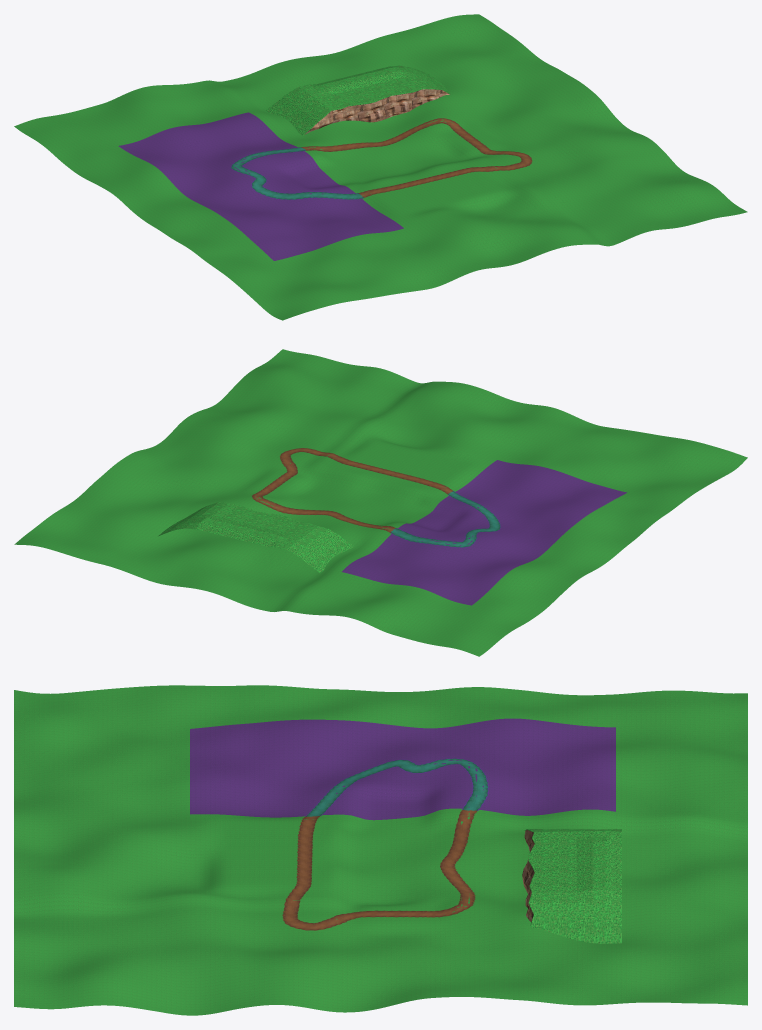
Rendered from Track.FBX.
3 renders of one model, top to bottom at view 1: azimuth 30°, elevation 25°; view 2: azimuth 150°, elevation 25°; view 3: azimuth 270°, elevation 25°, orthographic. The views are drawn at different scales.
Parts seen in each view (by area): view 1: Fields, Back CliffFace, Road; view 2: Fields, Back CliffFace, Road; view 3: Fields, Back CliffFace, Road.
Part boxes in pixels (box(x1,y1,x2,y2)): Fields: box(14, 14, 747, 320); Back CliffFace: box(265, 65, 450, 135); Road: box(231, 118, 532, 199); Fields: box(14, 349, 747, 656); Back CliffFace: box(158, 502, 354, 572); Road: box(251, 448, 500, 547); Fields: box(14, 685, 747, 1015); Back CliffFace: box(522, 829, 621, 943); Road: box(282, 758, 488, 930).
Bounding box in the file's own units: 1500 × 80.4 × 1500.
